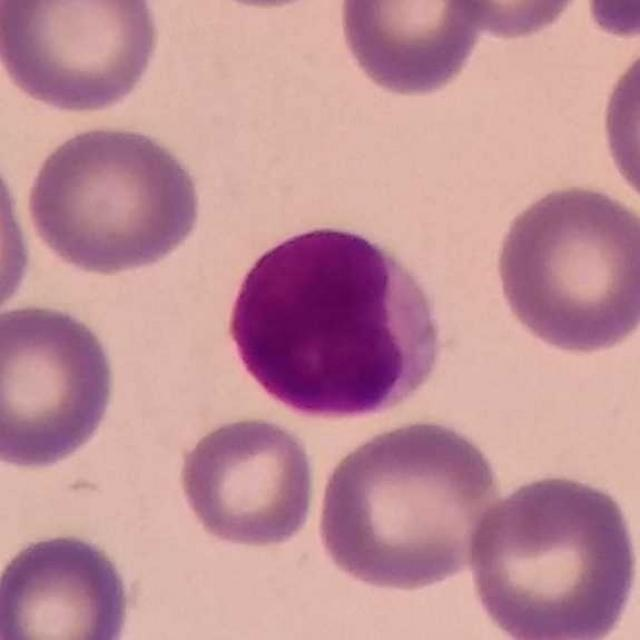Lymphocyte: (216, 217, 441, 423)
RBC: (312, 414, 504, 596), (463, 469, 639, 640), (21, 119, 206, 278), (489, 179, 639, 357), (0, 298, 121, 472), (172, 412, 320, 553), (1, 0, 165, 118), (333, 0, 491, 100), (0, 526, 137, 640), (595, 37, 640, 219), (0, 140, 37, 328), (437, 0, 591, 41), (579, 0, 640, 43)
